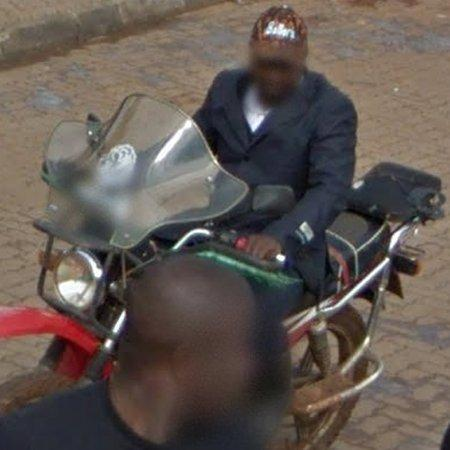motorcycles: (0, 94, 446, 450)
